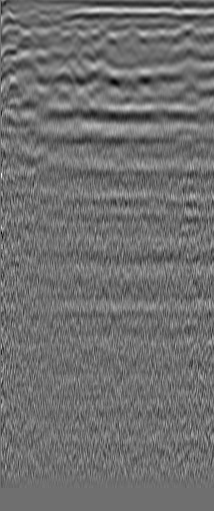오수: (15, 31, 35, 51)
우수: (172, 24, 192, 44)
